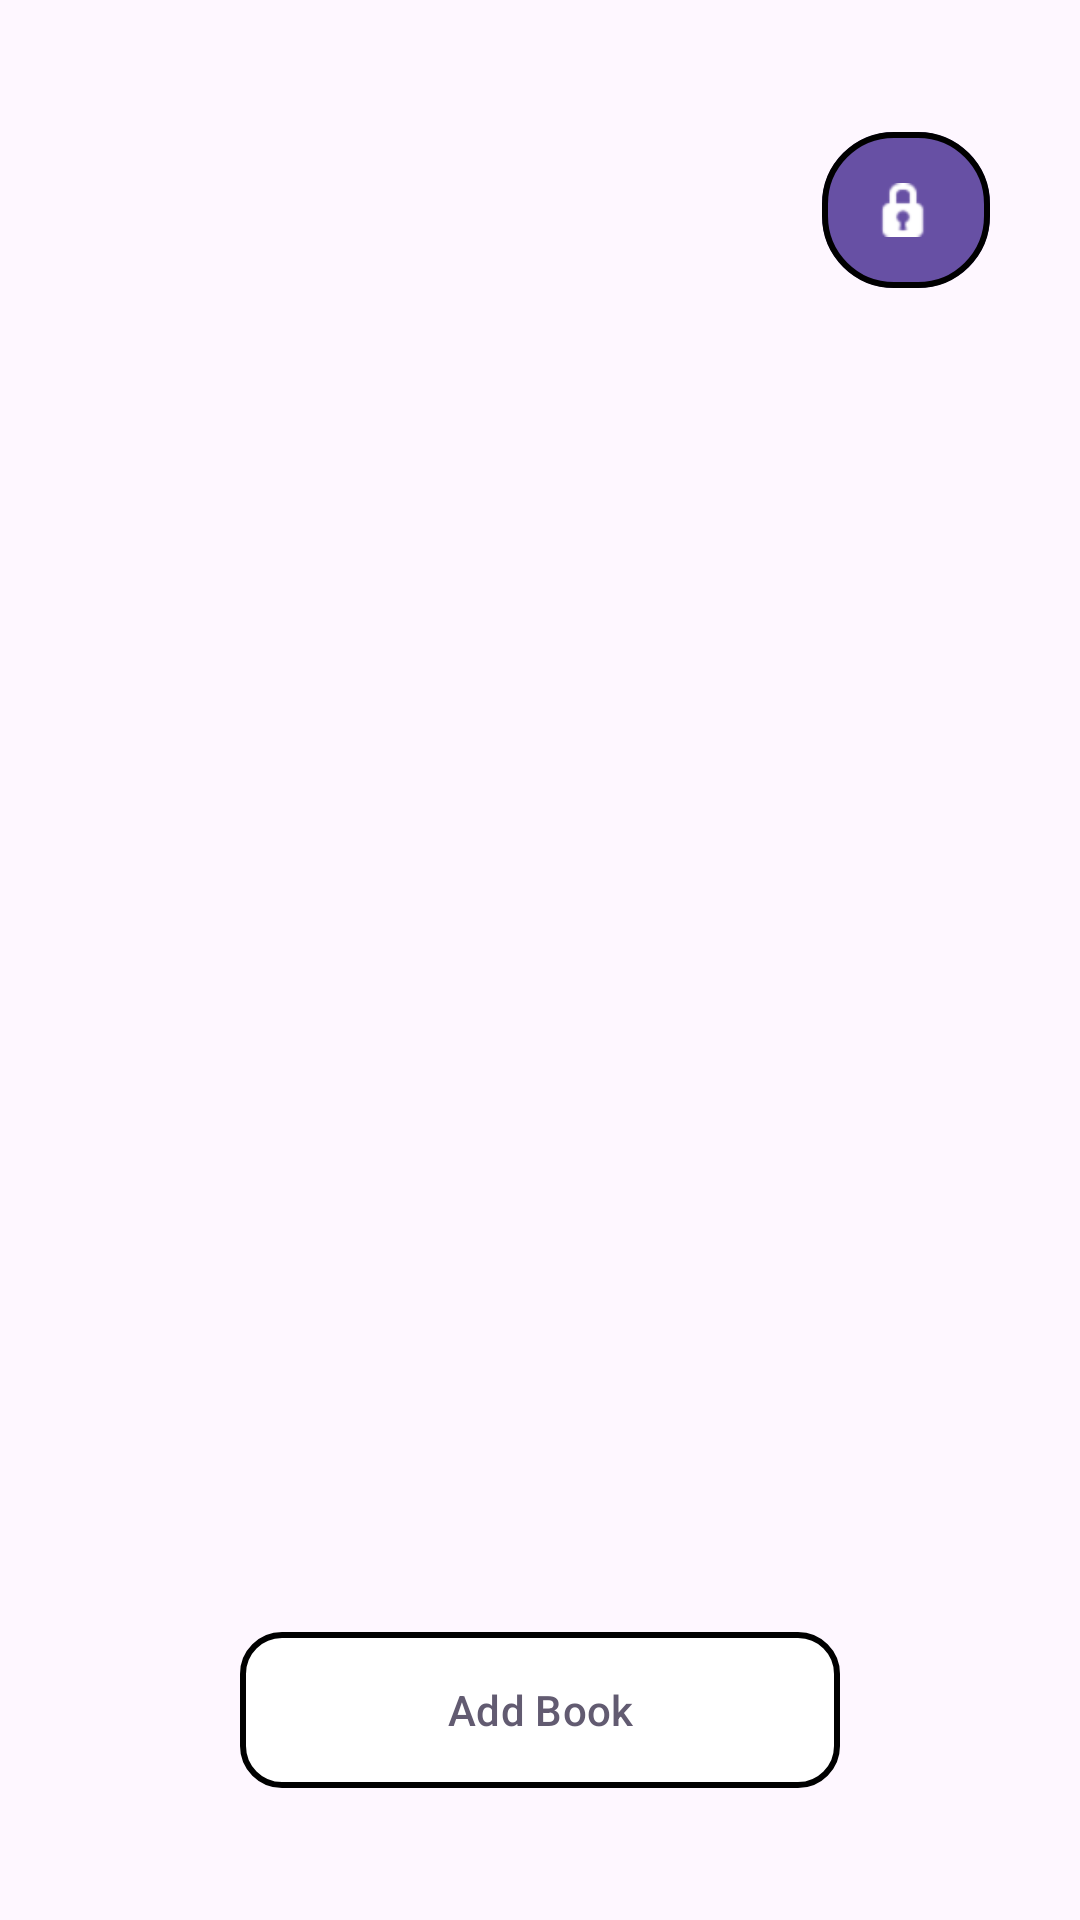

Named icons in this screenshot (1080*1920) and their centers, [x,y]:
secure: [906,210]
